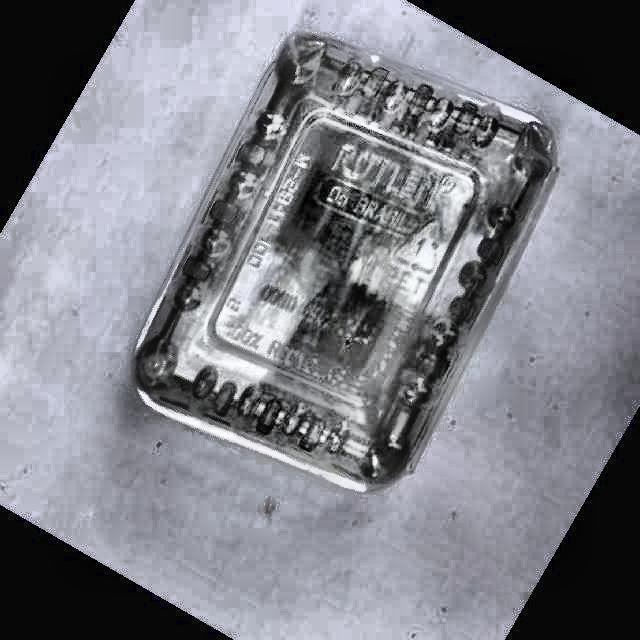plastic: (135, 34, 555, 491)
